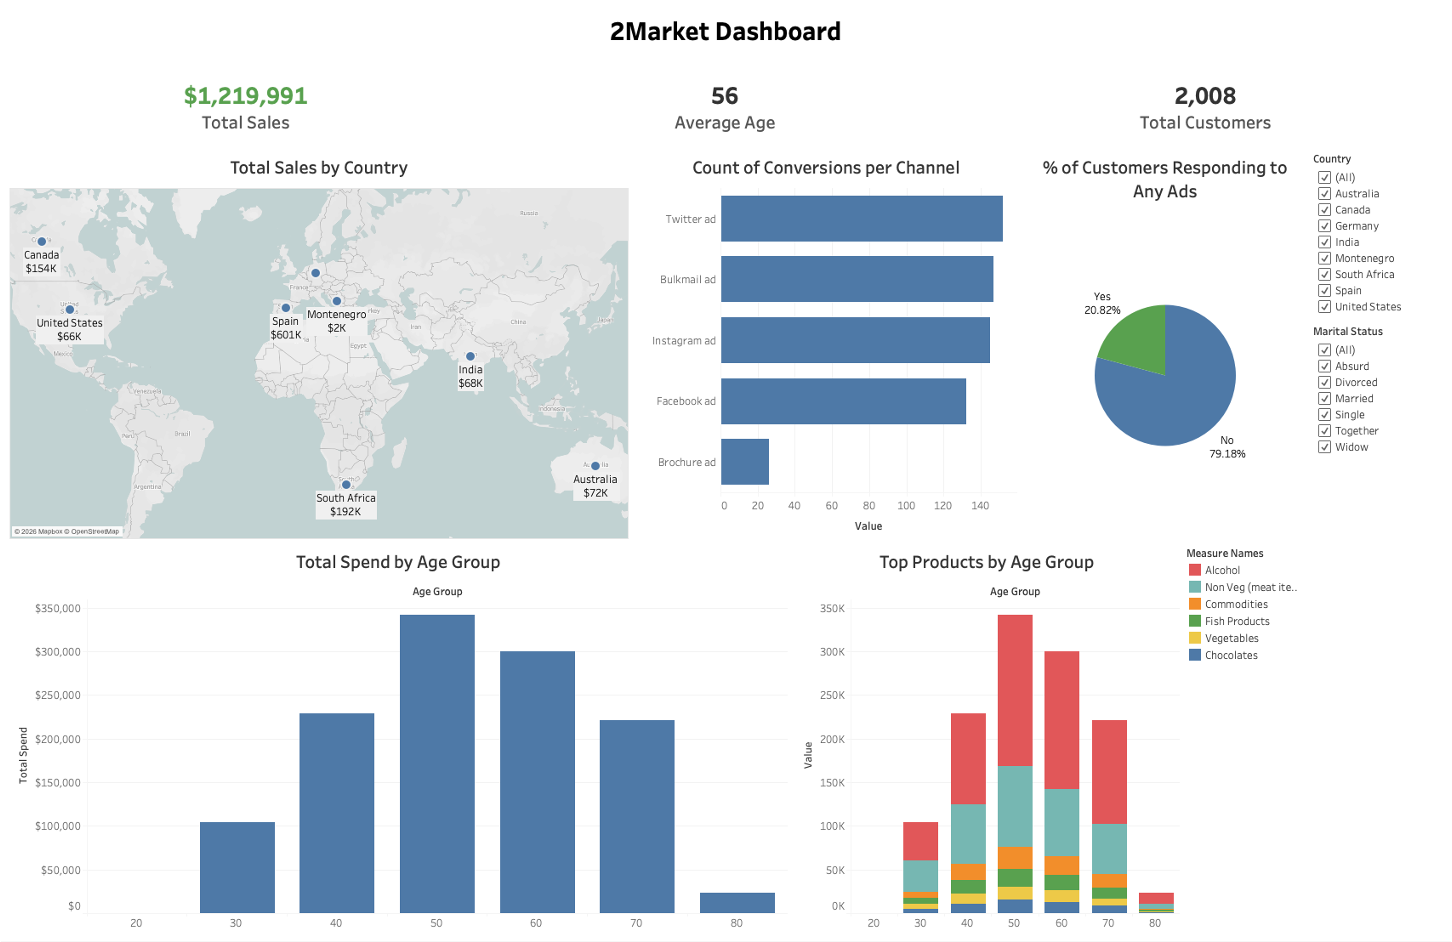

The page's visual inventory and layout, read from the dashboard file:
{"tool":"tableau","page":{"name":"2Market Dashboard","canvas":[1000,1000],"units":"permille","ordinal":0},"visuals":[{"type":"text","box":[5.4,8.3,989.2,50.6]},{"type":"worksheet","title":"KPI Total Sales","mark":"Automatic","box":[5.4,58.9,329.7,99.6]},{"type":"worksheet","title":"KPI Avg. Age.","mark":"Automatic","box":[335.1,58.9,329.7,99.6]},{"type":"worksheet","title":"KPI Total Customers","mark":"Automatic","box":[664.9,58.9,329.7,99.6]},{"type":"worksheet","title":"Total Sales by Country","mark":"Automatic","box":[5.4,158.5,423.1,418]},{"type":"worksheet","title":"Count of Conversions per Channel","mark":"Automatic","box":[428.5,158.5,262.8,418]},{"type":"worksheet","title":"% of Customers Responding to Any Ads","mark":"Pie","box":[691.3,158.5,195.5,418]},{"type":"filter","title":"Total Sales by Country","param":"[federated.1wbovcs0j43mqc17bgqz11vt38hh].[none:Calculation_0142194009468928:nk]","box":[886.7,158.5,107.9,209.9]},{"type":"filter","title":"Top Products by Age Group","param":"[federated.1wbovcs0j43mqc17bgqz11vt38hh].[none:Marital_Status:nk]","box":[886.7,368.4,107.9,170.6]},{"type":"worksheet","title":"Total Spend by Age Group","mark":"Automatic","rows":["Calculation_0099931802152960"],"cols":["Age (bin)"],"box":[5.4,576.5,530.5,415.2]},{"type":"worksheet","title":"Top Products by Age Group","mark":"Automatic","cols":["Age (bin)"],"box":[535.9,576.5,265.2,415.2]},{"type":"legend","title":"Top Products by Age Group","param":"[federated.1wbovcs0j43mqc17bgqz11vt38hh].[:Measure Names]","box":[801.1,576.5,85.6,415.2]}]}

Visuals, with their boxes on the dashboard's canvas, which has no fixed pixel size, in thousandths of its width and height (x1, y1, x2, y2). These are canvas units, not pixel positions in the 1452x942 screenshot, which may show the page scaled, cropped or inside an application window:
text: 5/8/995/59
"KPI Total Sales" worksheet: 5/59/335/158
"KPI Avg. Age." worksheet: 335/59/665/158
"KPI Total Customers" worksheet: 665/59/995/158
"Total Sales by Country" worksheet: 5/158/428/576
"Count of Conversions per Channel" worksheet: 428/158/691/576
"% of Customers Responding to Any Ads" worksheet (Pie marks): 691/158/887/576
"Total Sales by Country" filter: 887/158/995/368
"Top Products by Age Group" filter: 887/368/995/539
"Total Spend by Age Group" worksheet: 5/576/536/992
"Top Products by Age Group" worksheet: 536/576/801/992
"Top Products by Age Group" legend: 801/576/887/992
